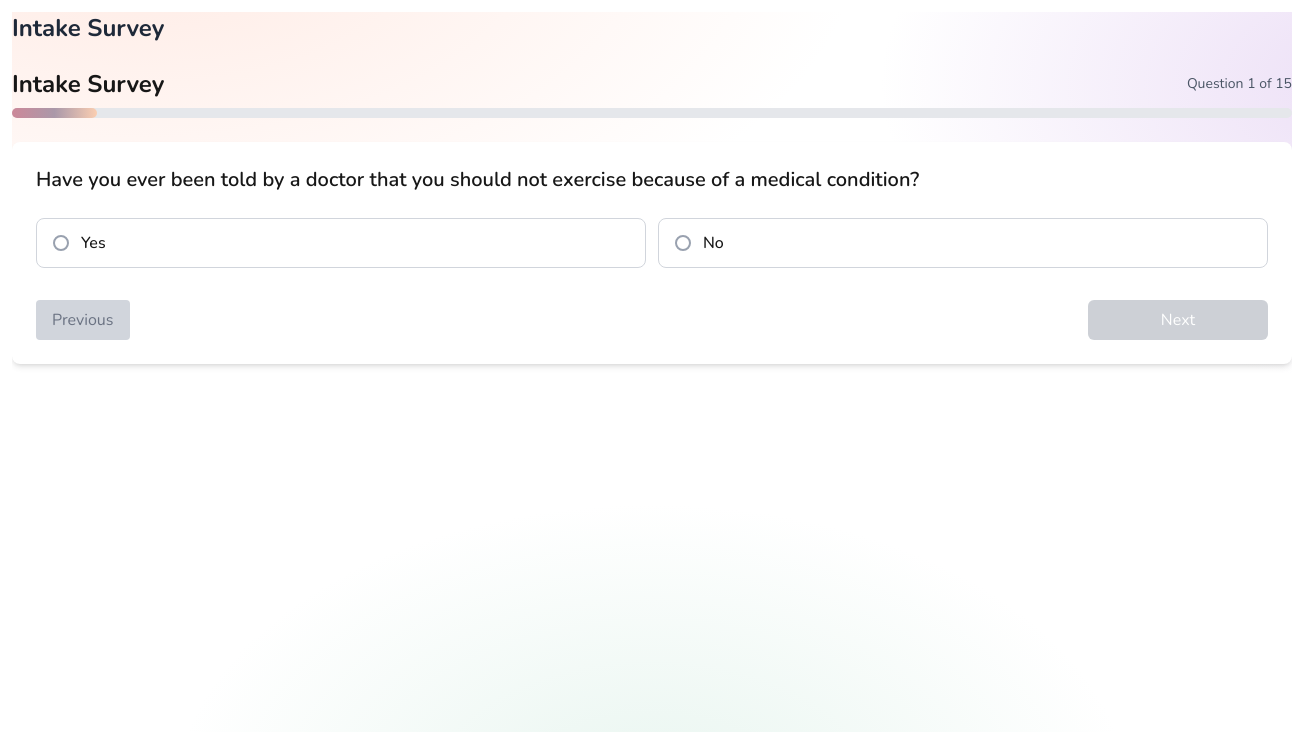
IntakeSurvey › navigates back to previous question when Back is clicked
Navigate to second question - first answer the medical clearance question
Click the radio button "No" at [683, 243], box [658,218,1268,268]
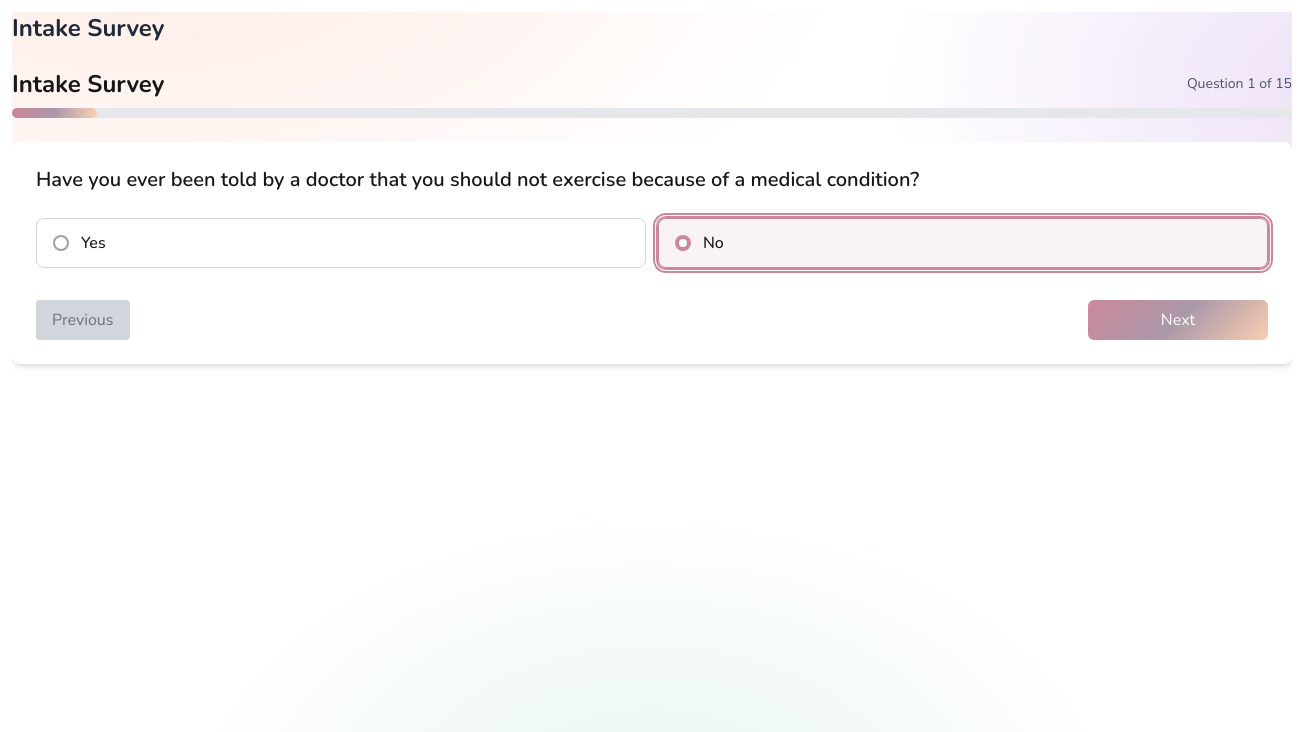
Click the button "Next" at [1178, 320], box [1088,300,1268,340]
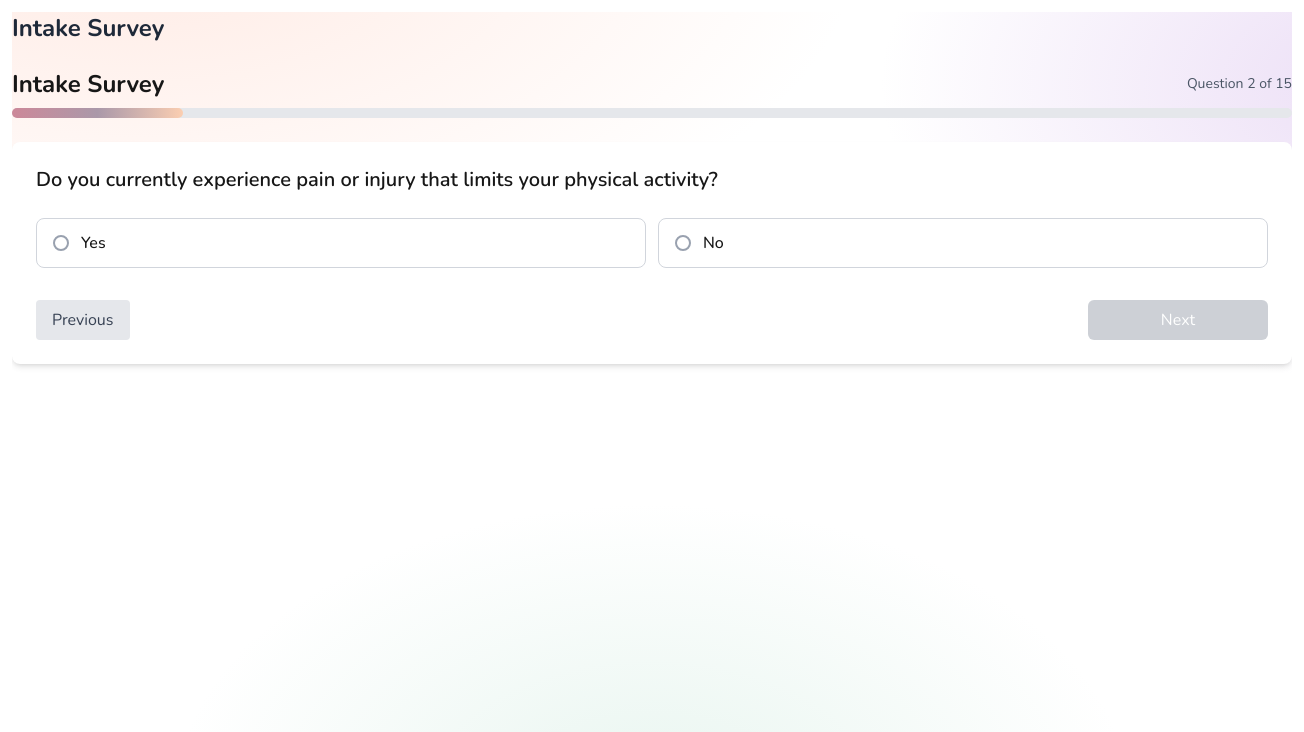
Result: the heading "Do you currently experience pain or injury that limits your physical activity?" is shown at [36,166,718,193]
 Go back
Click the button "Previous" at [83, 320], box [36,300,130,340]
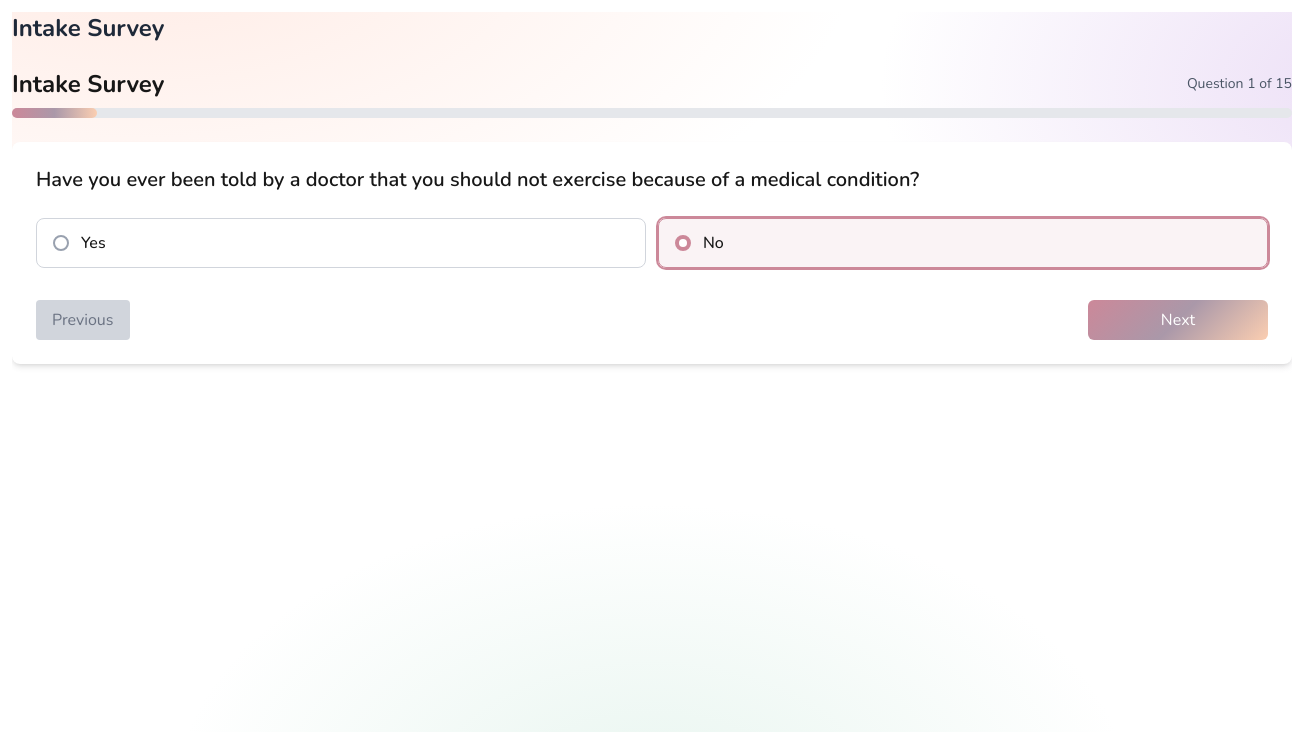
Result: the heading "Have you ever been told by a doctor that you should not exercise because of a medical condition?" is shown at [36,166,919,193]
